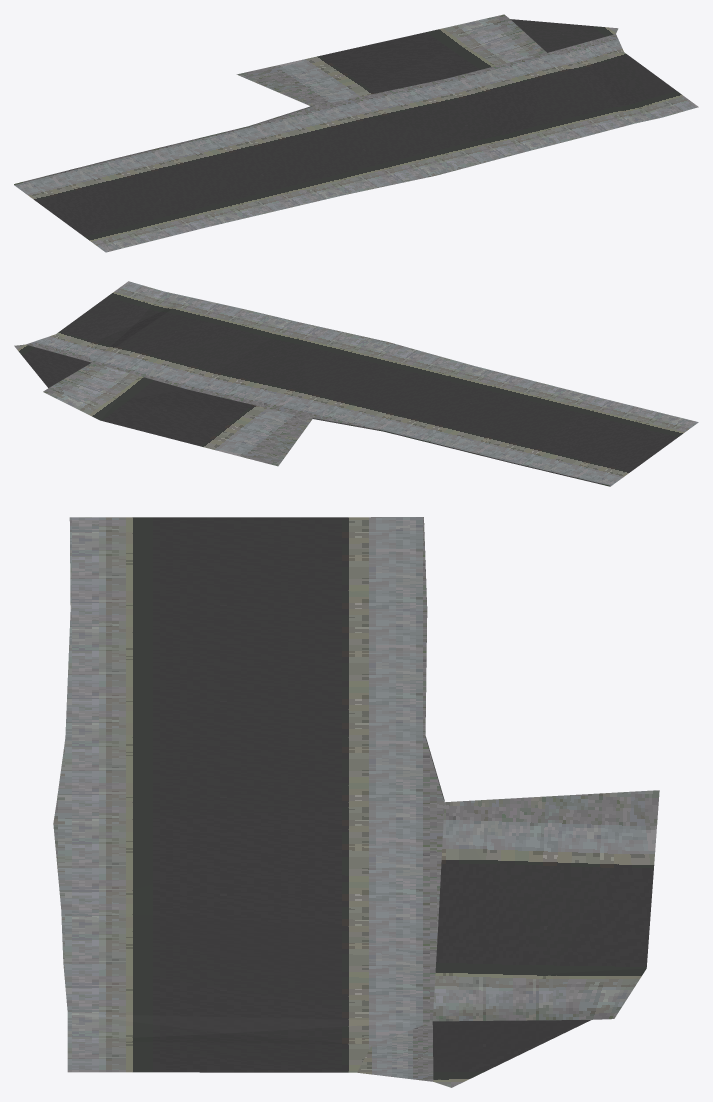
The model's file is lodds27_law2.obj.
3 views of the same model, one above another, from view 1: azimuth 30°, elevation 25°; view 2: azimuth 150°, elevation 25°; view 3: azimuth 270°, elevation 25° (orthographic). The views are drawn at different scales.
Parts seen in each view (by area): view 1: LODds27_LAw2; view 2: LODds27_LAw2; view 3: LODds27_LAw2.
Boxes of the visible parts, x1,y1,x2,y2 form: LODds27_LAw2: (14,14,698,252); LODds27_LAw2: (14,281,698,486); LODds27_LAw2: (53,517,659,1087).
Bounding box in the file's own units: 120 × 1.3 × 53.31.
1 material, 1 textured.
